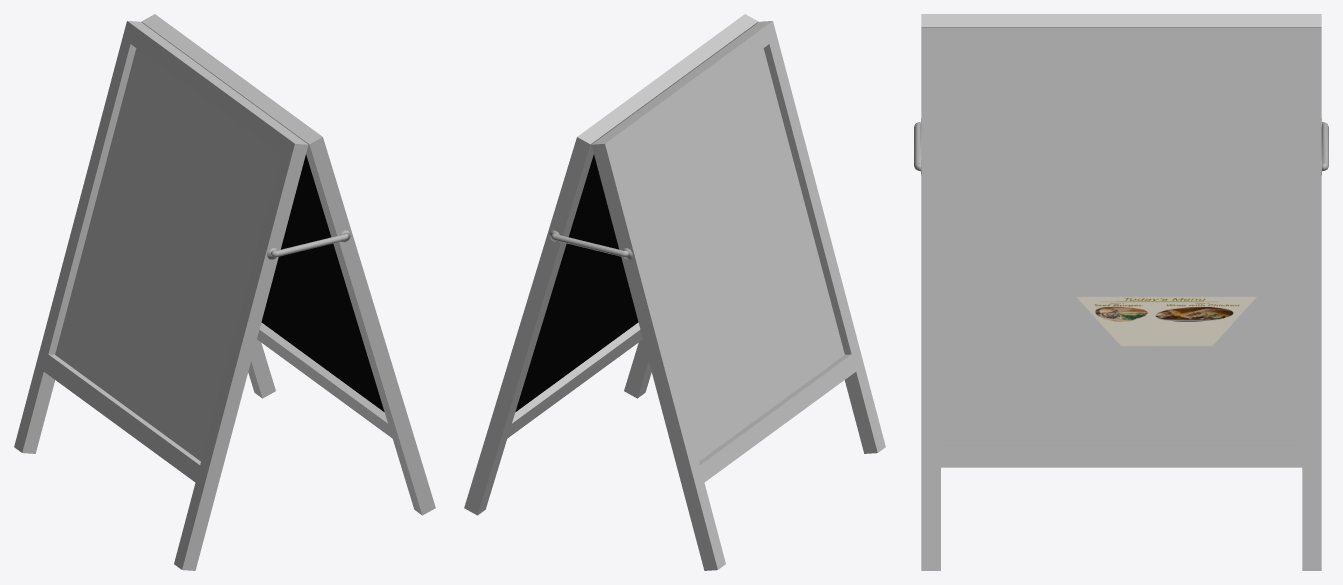
File: Sign.fbx
3 views of the same model, side by side, from view 1: azimuth 30°, elevation 25°; view 2: azimuth 150°, elevation 25°; view 3: azimuth 270°, elevation 25° (orthographic). The views are drawn at different scales.
Visible parts, largest first — view 1: Sign, Metal.001; view 2: Sign, Metal; view 3: Sign.
Boxes of the visible parts, x1,y1,x2,y2 form: Sign: (14,14,435,570); Metal.001: (267,230,350,259); Sign: (464,14,885,570); Metal: (549,230,632,259); Sign: (921,14,1321,570).
Size of the model in its own units: 90.09 by 137 by 107.
